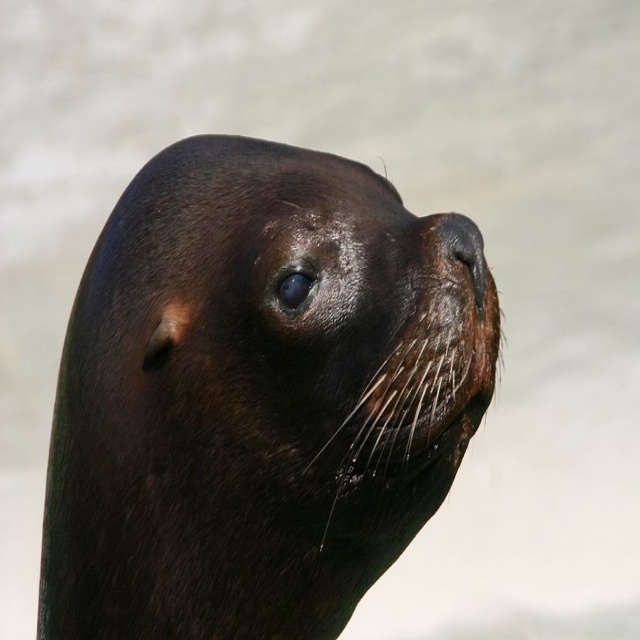Sea lion: (34, 134, 510, 639)
